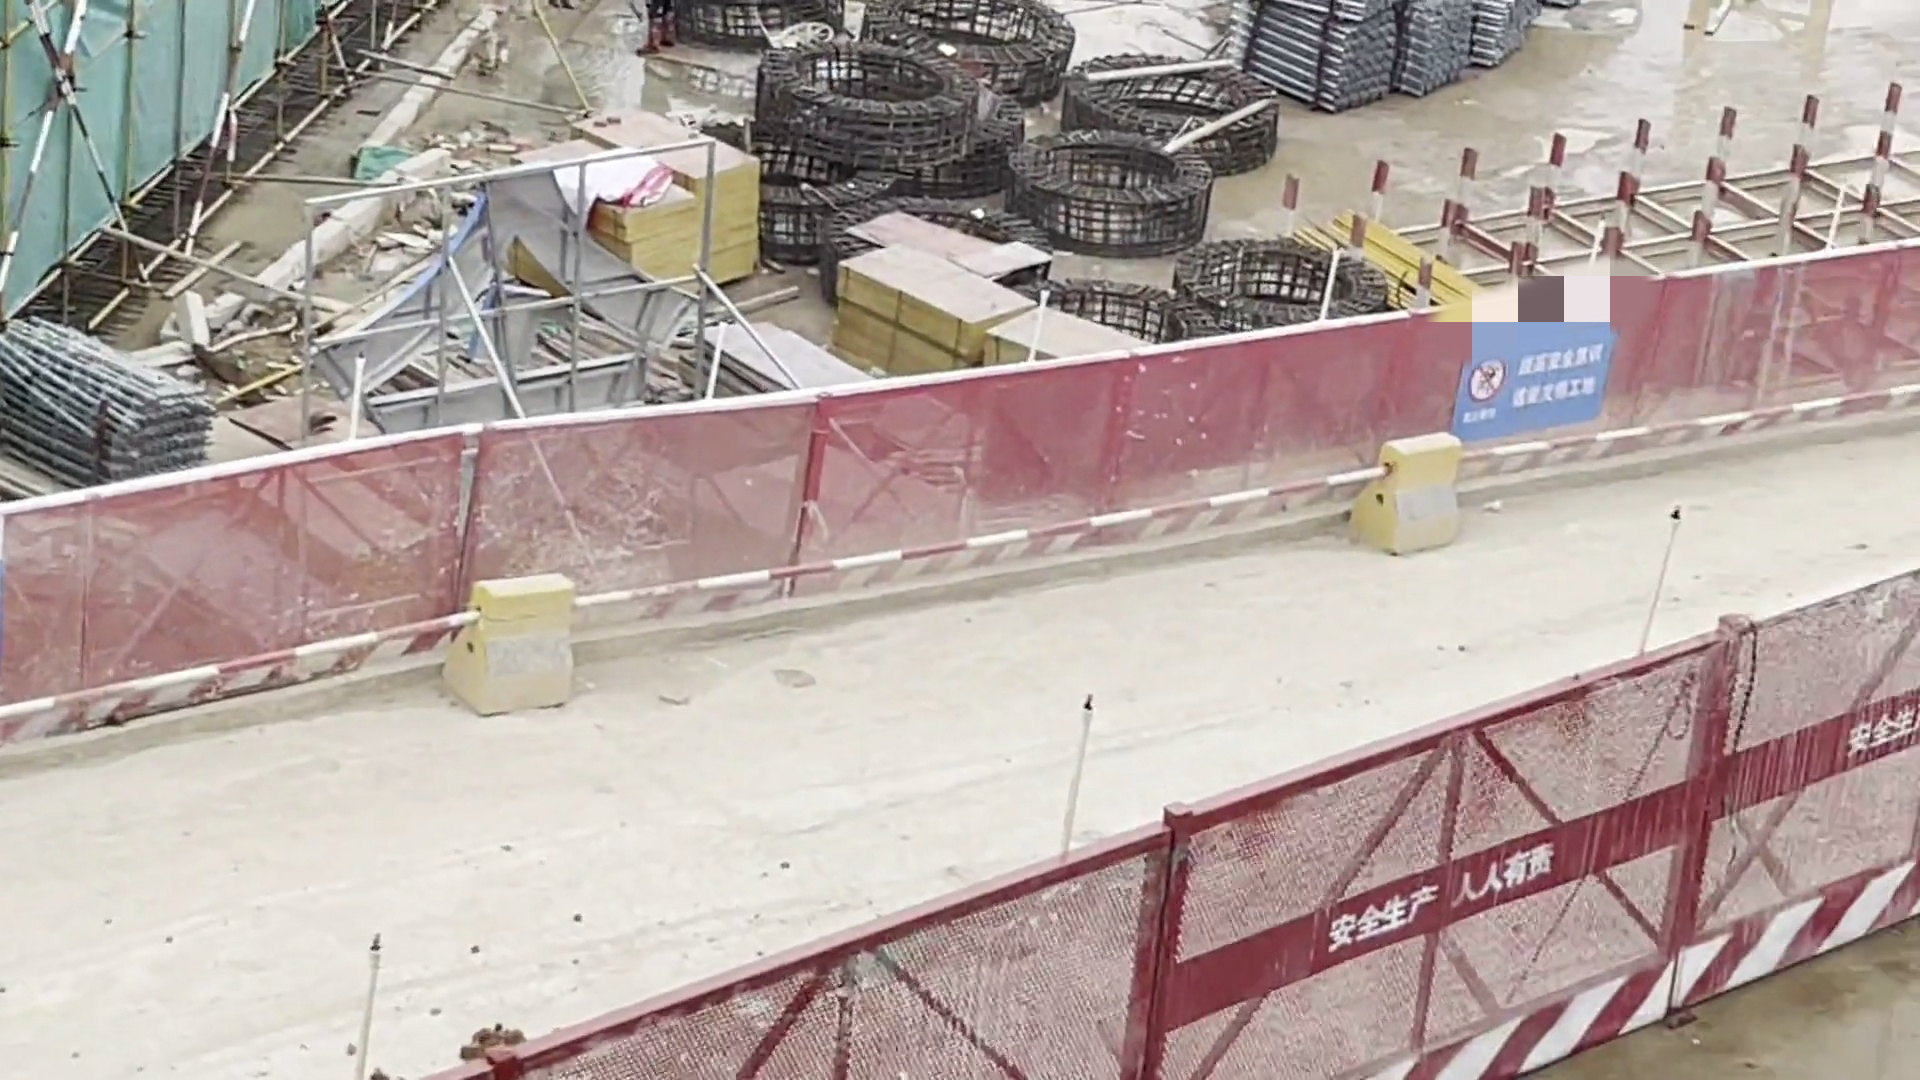board: (568, 102, 764, 299), (847, 244, 989, 384), (992, 306, 1158, 378)
fence: (5, 243, 1920, 744), (609, 694, 1840, 1080)
scaffold: (7, 316, 222, 481), (1226, 1, 1396, 100), (1403, 1, 1472, 95), (1481, 4, 1543, 63)
slogan: (1465, 318, 1615, 427)
